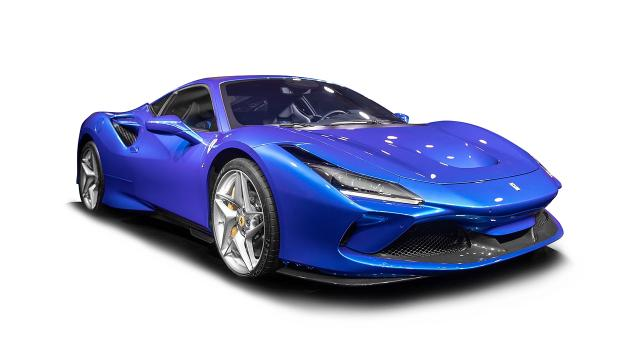ferrari: (76, 74, 564, 290)
